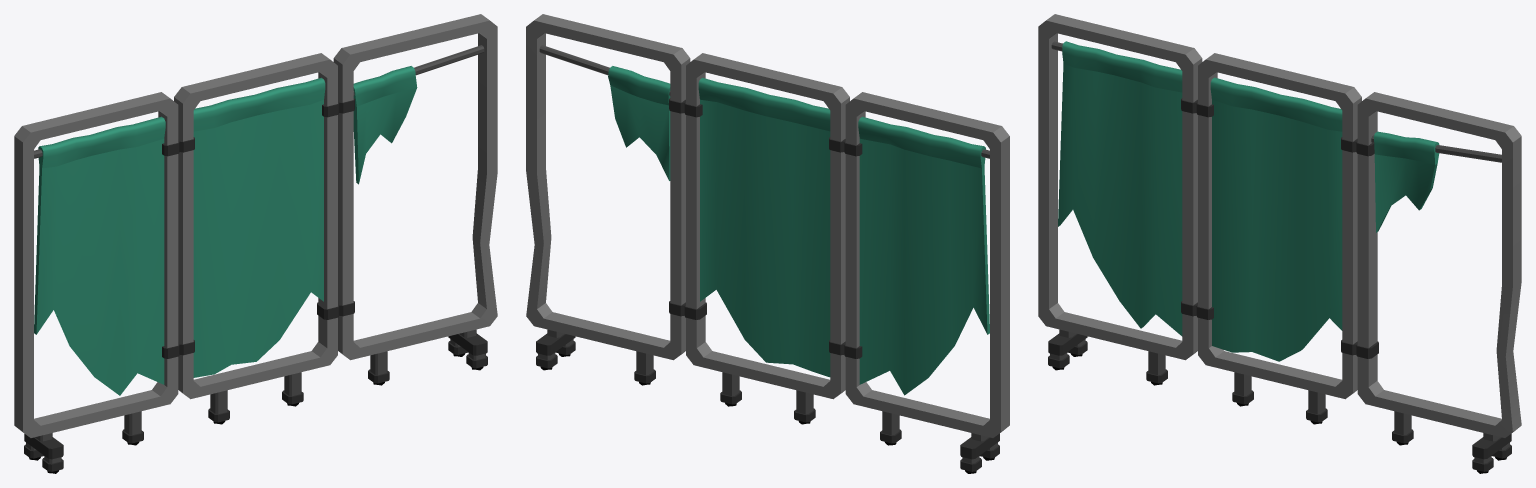
File: Curtain Partition 02.fbx
3 views of the same model, side by side, from view 1: azimuth 30°, elevation 25°; view 2: azimuth 150°, elevation 25°; view 3: azimuth 330°, elevation 25° (orthographic).
Visible parts, largest first — view 1: Curtain_Partition_02; view 2: Curtain_Partition_02; view 3: Curtain_Partition_02.
Part boxes in pixels (x1,y1,x2,y2): Curtain_Partition_02: [14, 14, 497, 473]; Curtain_Partition_02: [526, 14, 1009, 473]; Curtain_Partition_02: [1038, 14, 1521, 473].
Bounding box in the file's own units: 307 × 211 × 30.4.
